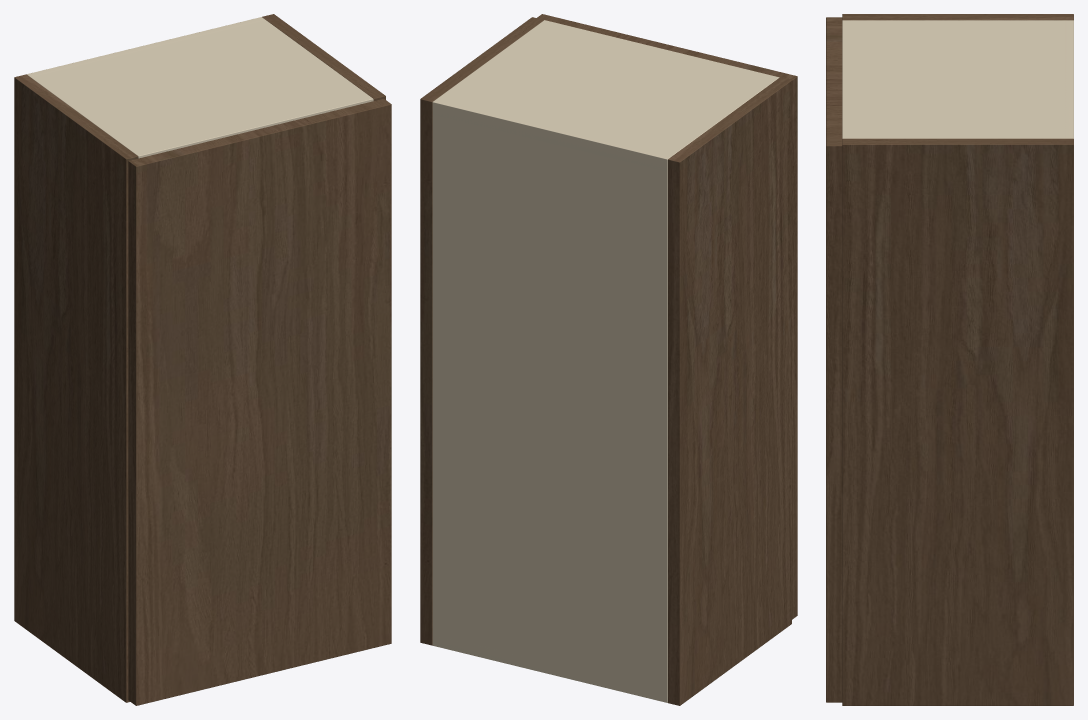
File: oppein-ply-mso-w1530.glb
3 renders of one model, left to right at view 1: azimuth 30°, elevation 25°; view 2: azimuth 150°, elevation 25°; view 3: azimuth 270°, elevation 25°, orthographic. The views are drawn at different scales.
Parts seen in each view (by area): view 1: Door, Cabinet side, Cabinet top, Cabinet side.001, Cabinet back; view 2: Cabinet back, Cabinet side, Cabinet top, Cabinet side.001, Door; view 3: Cabinet side.001, Cabinet top, Door, Cabinet side, Cabinet back.
Boxes of the visible parts, <box> form: Door: <box>128,98,391,705</box>; Cabinet side: <box>14,74,138,702</box>; Cabinet top: <box>27,20,373,158</box>; Cabinet side.001: <box>262,14,385,100</box>; Cabinet back: <box>27,17,265,77</box>; Cabinet back: <box>432,98,671,702</box>; Cabinet side: <box>668,77,791,705</box>; Cabinet top: <box>432,20,779,171</box>; Cabinet side.001: <box>420,17,543,645</box>; Door: <box>537,14,797,619</box>; Cabinet side.001: <box>842,138,1073,705</box>; Cabinet top: <box>842,20,1073,138</box>; Door: <box>826,17,842,702</box>; Cabinet side: <box>842,14,1073,20</box>; Cabinet back: <box>1064,20,1073,138</box>.
Bounding box in the file's own units: 0.381 × 0.762 × 0.3048.
2 materials, 1 textured.
